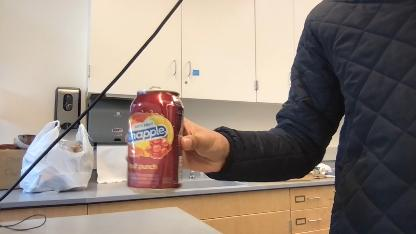Can: (128, 88, 182, 194)
